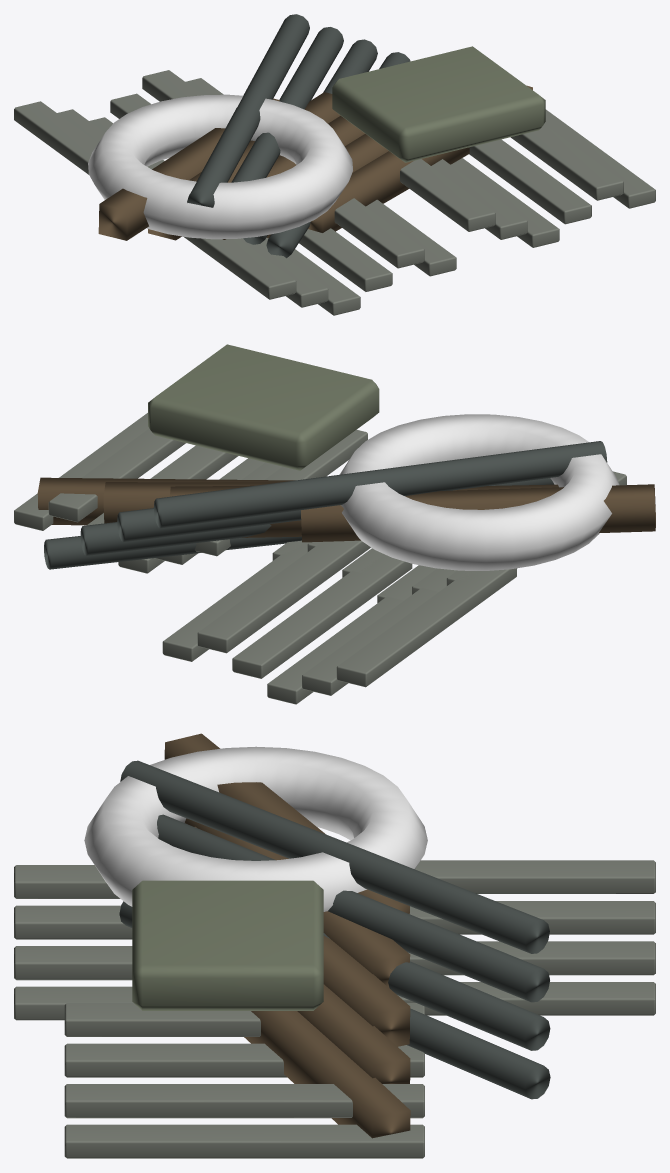
The model's file is ScrapHeap02.fbx.
3 renders of one model, top to bottom at view 1: azimuth 30°, elevation 25°; view 2: azimuth 150°, elevation 25°; view 3: azimuth 270°, elevation 25°, orthographic. The views are drawn at different scales.
Parts seen in each view (by area): view 1: ScrapHeap02; view 2: ScrapHeap02; view 3: ScrapHeap02.
Boxes of the visible parts, bbox=[...] form: ScrapHeap02: bbox=[14, 14, 655, 315]; ScrapHeap02: bbox=[14, 344, 655, 704]; ScrapHeap02: bbox=[14, 733, 655, 1158].
Size of the model in its own units: 134 by 31.25 by 114.
